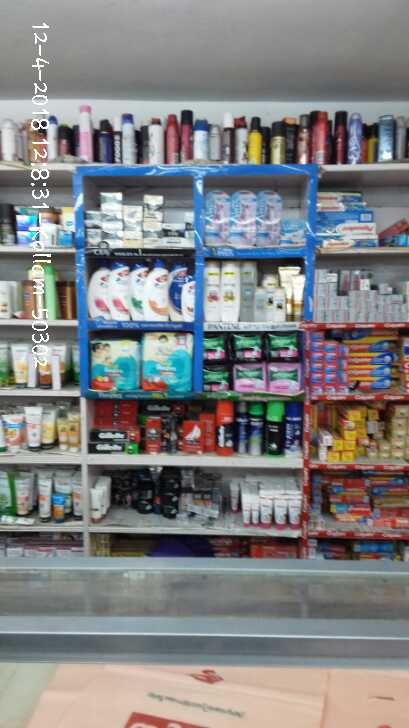gillete: (216, 401, 234, 456), (87, 442, 137, 456), (237, 403, 250, 455), (250, 403, 261, 456), (91, 429, 140, 440), (145, 403, 185, 415)
venus: (230, 190, 258, 244), (207, 188, 230, 244), (258, 190, 280, 243), (280, 218, 305, 243)
